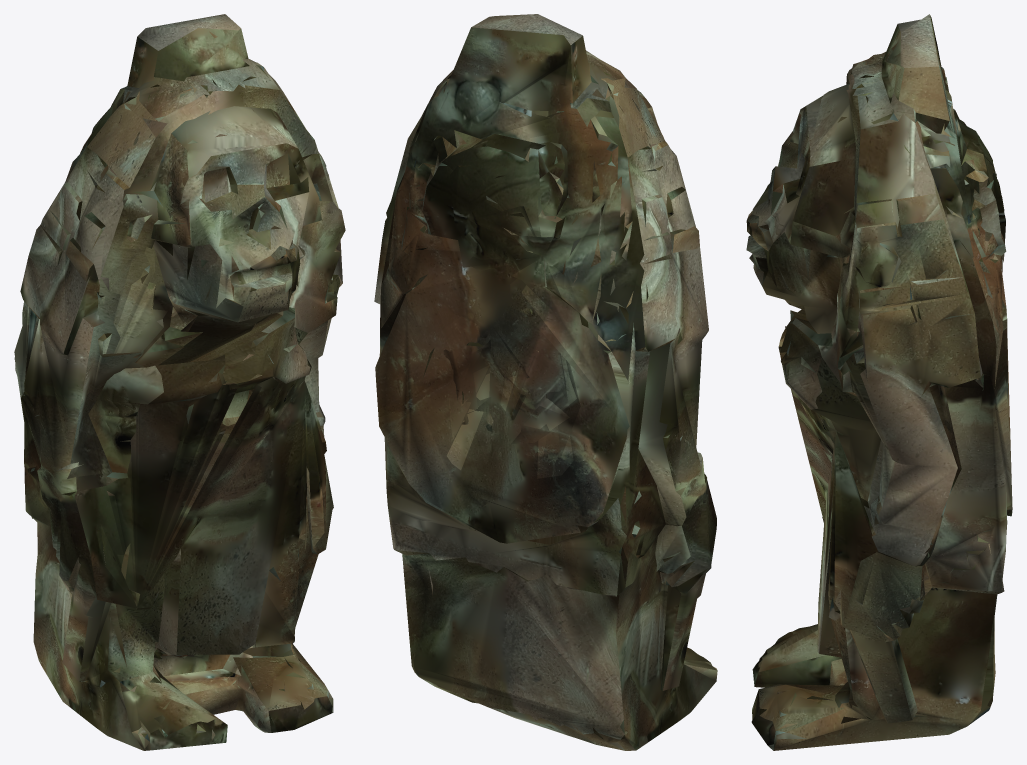
The model's file is statue3.obj.
3 views of the same model, side by side, from view 1: azimuth 30°, elevation 25°; view 2: azimuth 150°, elevation 25°; view 3: azimuth 270°, elevation 25° (orthographic). The views are drawn at different scales.
Parts seen in each view (by area): view 1: 3400_Jadestatue_Opfer_hp; view 2: 3400_Jadestatue_Opfer_hp; view 3: 3400_Jadestatue_Opfer_hp.
Part boxes in pixels (bbox=[...]): 3400_Jadestatue_Opfer_hp: bbox=[14, 14, 345, 750]; 3400_Jadestatue_Opfer_hp: bbox=[374, 14, 717, 750]; 3400_Jadestatue_Opfer_hp: bbox=[746, 14, 1012, 750].
Size of the model in its own units: 0.4117 by 0.9332 by 0.3281.
